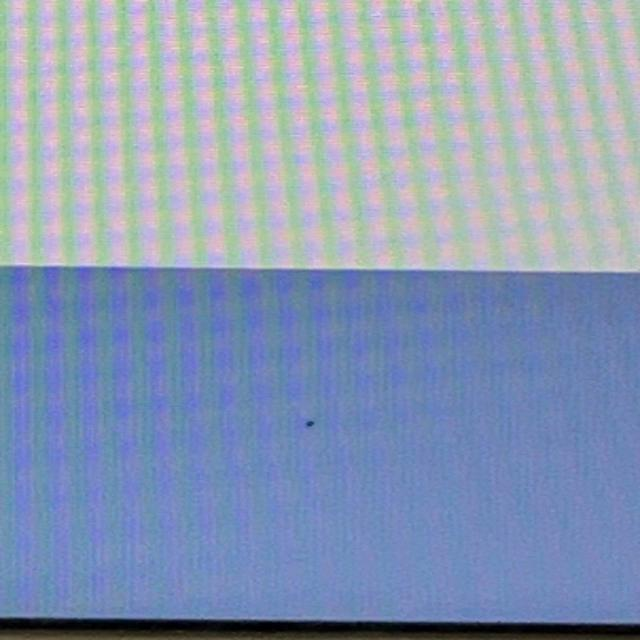Dead pixel: (306, 421, 314, 427)
